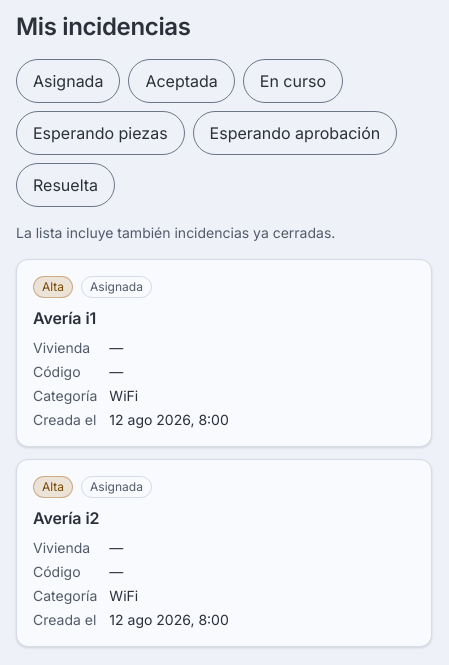
Test: TechIncidentsView (R1) › hides that notice once a status filter is active (R1.4)
Check: the text "La lista incluye también incidencias ya cerradas." is shown, box [16,224,335,241]
Click the button "Aceptada": (182,81) [128,59,235,103]
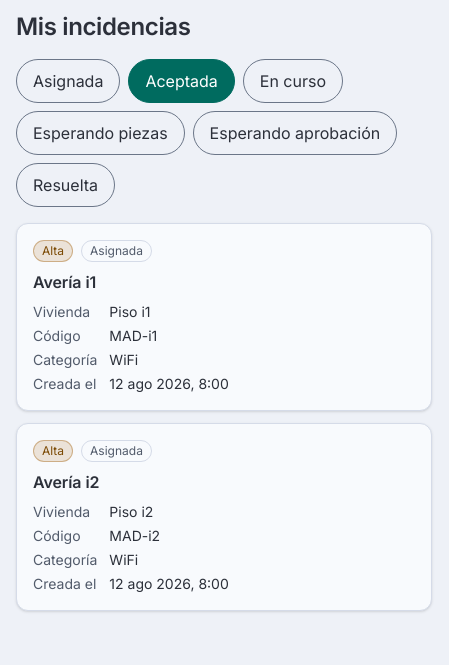
Check: the text "La lista incluye también incidencias ya cerradas." is gone
